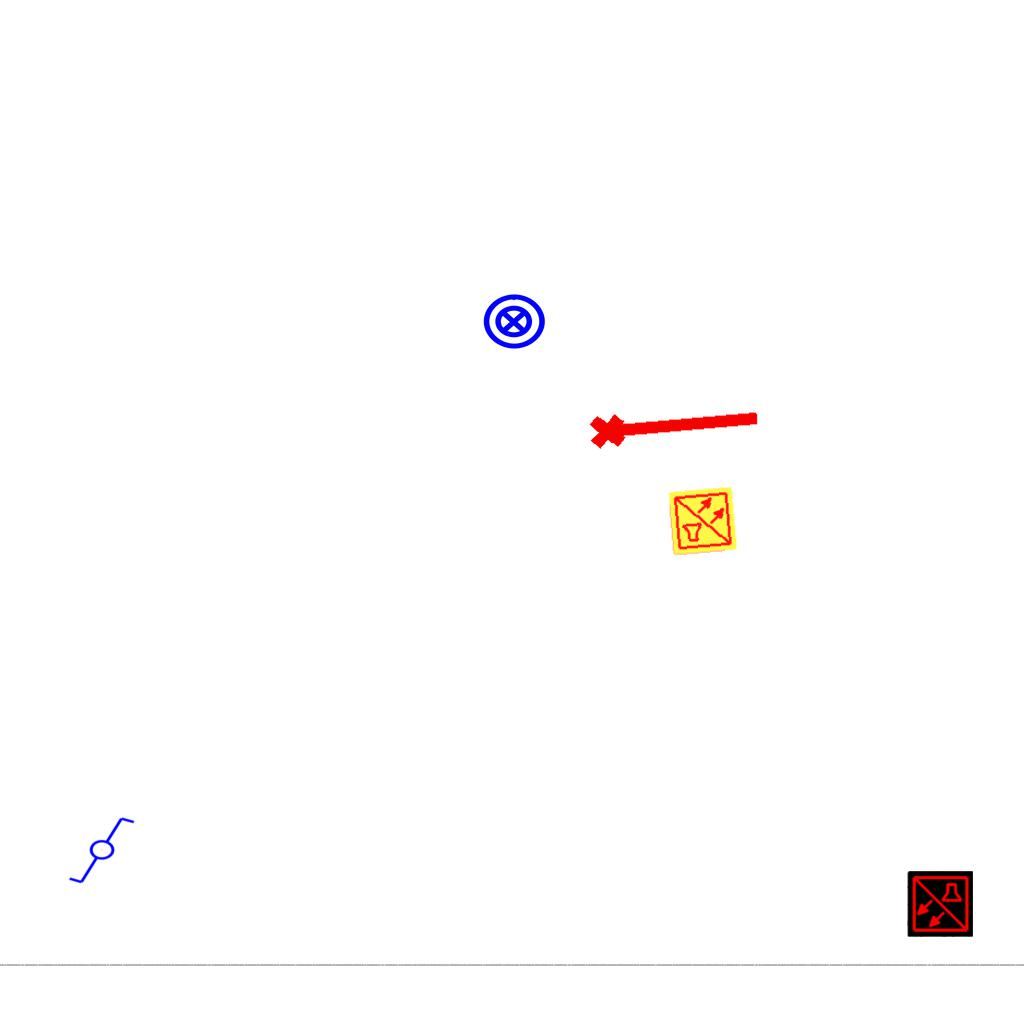ASR_Ansaugoeffnung: (585, 392, 765, 454)
OKW_Multisensormelder_(Kombination_optischer_Rauch-Kahlenmonoxid_Waerme-Melder): (667, 485, 739, 557), (907, 871, 973, 937)
Taster_beleuchtet: (481, 289, 547, 355)
Wechselschalter: (67, 815, 145, 887)
